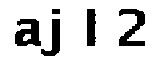2: (115, 8, 152, 47)
I: (75, 4, 103, 52)
a: (12, 16, 43, 50)
j: (40, 8, 64, 59)
